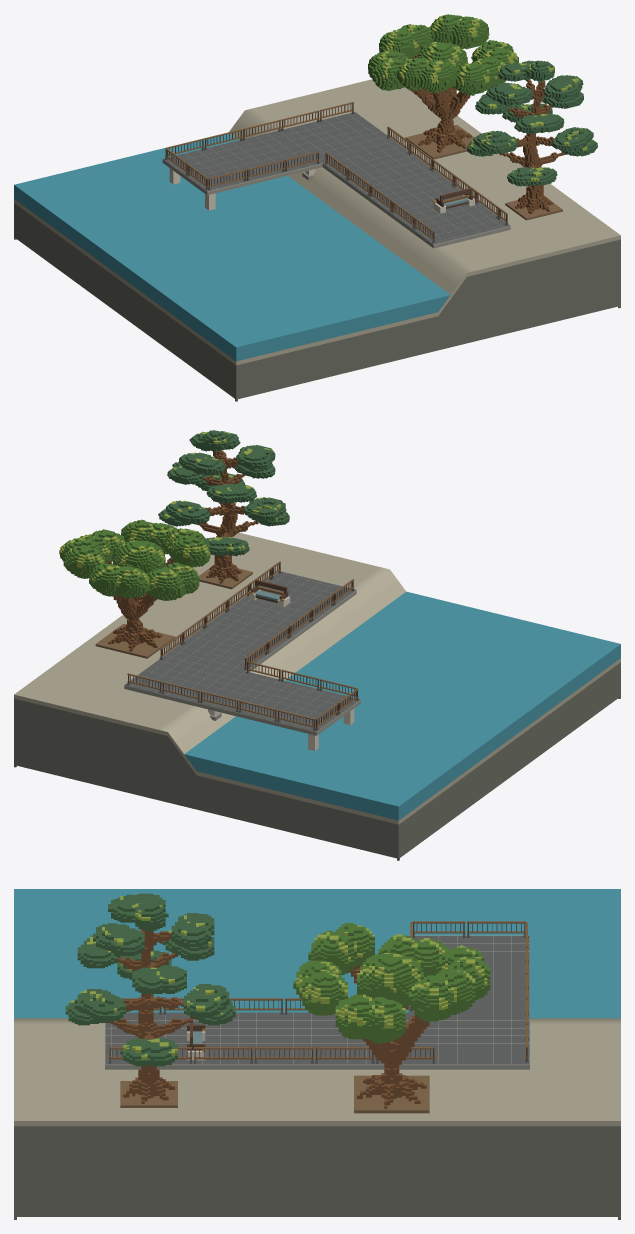
Rendered from visual-far.glb.
3 renders of one model, top to bottom at view 1: azimuth 30°, elevation 25°; view 2: azimuth 150°, elevation 25°; view 3: azimuth 270°, elevation 25°, orthographic. The views are drawn at different scales.
Parts seen in each view (by area): view 1: 连续岩土实体与最小原生岩块, 同源床面裁切的真实水域, 分层实心台基与独立石铺面 (×2), 阔叶分枝与开阔树冠母版, 松类体素分枝树母版, 贴地独立根域与表土, 公共长椅与石凳母版; view 2: 连续岩土实体与最小原生岩块, 同源床面裁切的真实水域, 分层实心台基与独立石铺面 (×2), 阔叶分枝与开阔树冠母版, 松类体素分枝树母版, 贴地独立根域与表土, 公共长椅与石凳母版; view 3: 连续岩土实体与最小原生岩块, 同源床面裁切的真实水域, 分层实心台基与独立石铺面 (×2), 阔叶分枝与开阔树冠母版, 松类体素分枝树母版, 贴地独立根域与表土 (×2), 廊边木栏与实际竖梃 (×5), 公共长椅与石凳母版.
Boxes of the visible parts, <box> form: 连续岩土实体与最小原生岩块: <box>14,79,620,401</box>; 同源床面裁切的真实水域: <box>14,133,450,361</box>; 分层实心台基与独立石铺面 (×2): <box>162,112,510,248</box>; 阔叶分枝与开阔树冠母版: <box>368,14,518,152</box>; 松类体素分枝树母版: <box>467,60,597,213</box>; 贴地独立根域与表土: <box>405,125,473,159</box>; 公共长椅与石凳母版: <box>433,188,474,213</box>; 连续岩土实体与最小原生岩块: <box>14,532,620,860</box>; 同源床面裁切的真实水域: <box>184,591,620,820</box>; 分层实心台基与独立石铺面 (×2): <box>124,571,360,735</box>; 阔叶分枝与开阔树冠母版: <box>59,519,210,651</box>; 松类体素分枝树母版: <box>158,430,289,583</box>; 贴地独立根域与表土: <box>95,624,175,658</box>; 公共长椅与石凳母版: <box>249,579,290,607</box>; 连续岩土实体与最小原生岩块: <box>14,1018,620,1219</box>; 同源床面裁切的真实水域: <box>14,889,620,1018</box>; 分层实心台基与独立石铺面 (×2): <box>105,935,529,1069</box>; 阔叶分枝与开阔树冠母版: <box>293,923,490,1108</box>; 松类体素分枝树母版: <box>65,893,235,1103</box>; 贴地独立根域与表土 (×2): <box>120,1075,429,1113</box>; 廊边木栏与实际竖梃 (×5): <box>194,921,525,1063</box>; 公共长椅与石凳母版: <box>187,1023,205,1060</box>.
Size of the model in its own units: 42.8 by 21.4 by 40.
17 materials, 16 textured.
